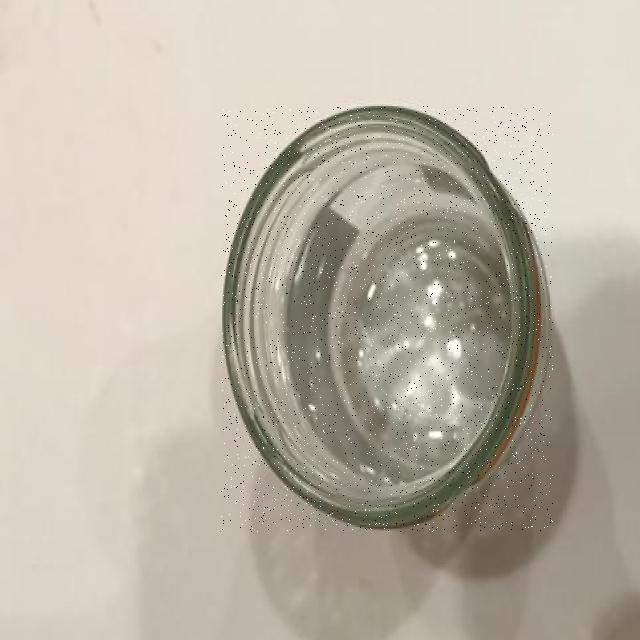glass: (221, 106, 553, 532)
